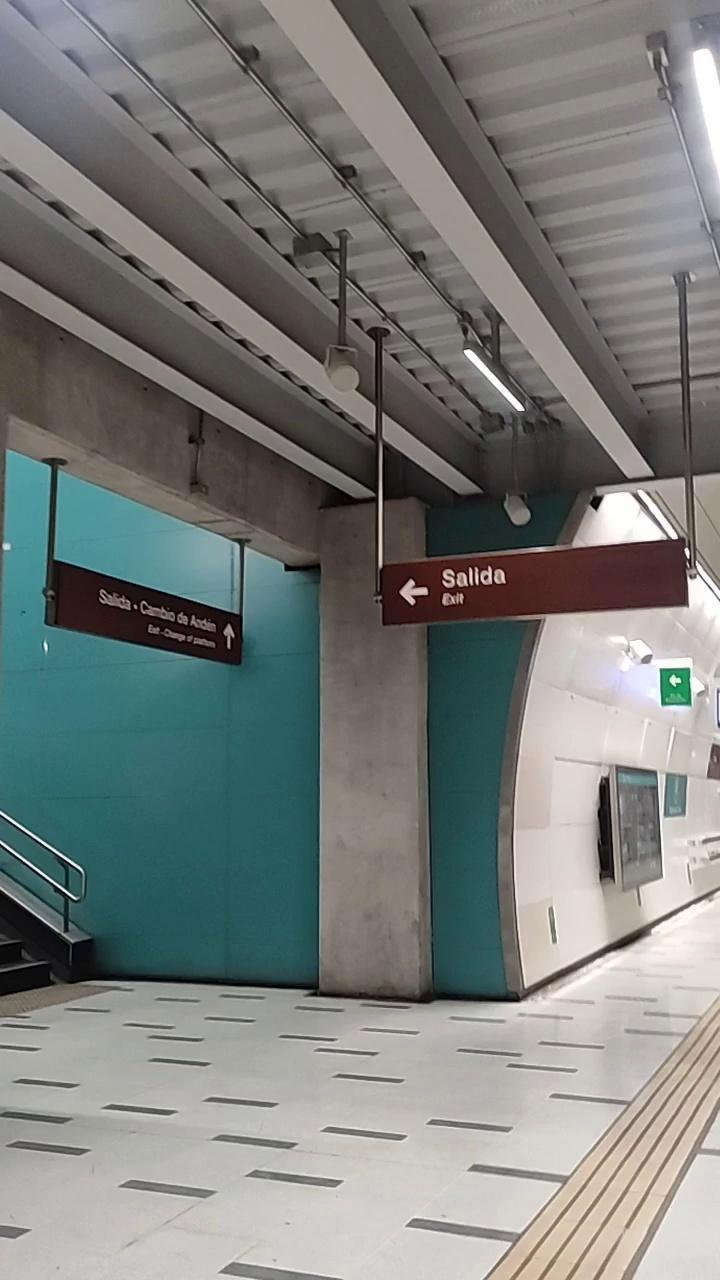left arrow: (394, 576, 436, 610)
up arrow: (216, 620, 239, 654)
